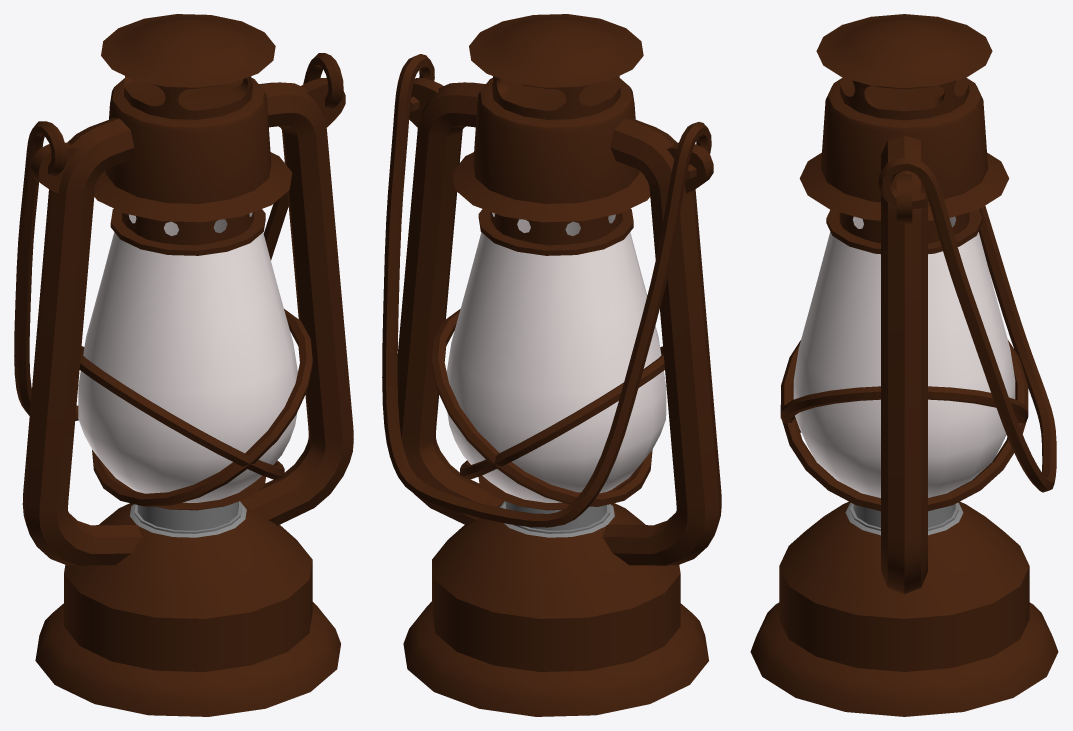
Rendered from лампа90.fbx.
3 views of the same model, side by side, from view 1: azimuth 30°, elevation 25°; view 2: azimuth 150°, elevation 25°; view 3: azimuth 270°, elevation 25° (orthographic).
Parts seen in each view (by area): view 1: Цилиндр; view 2: Цилиндр; view 3: Цилиндр.
Boxes of the visible parts, x1,y1,x2,y2 form: Цилиндр: (14, 14, 353, 716); Цилиндр: (382, 14, 721, 716); Цилиндр: (750, 14, 1058, 716).
Size of the model in its own units: 244 by 444 by 200.
